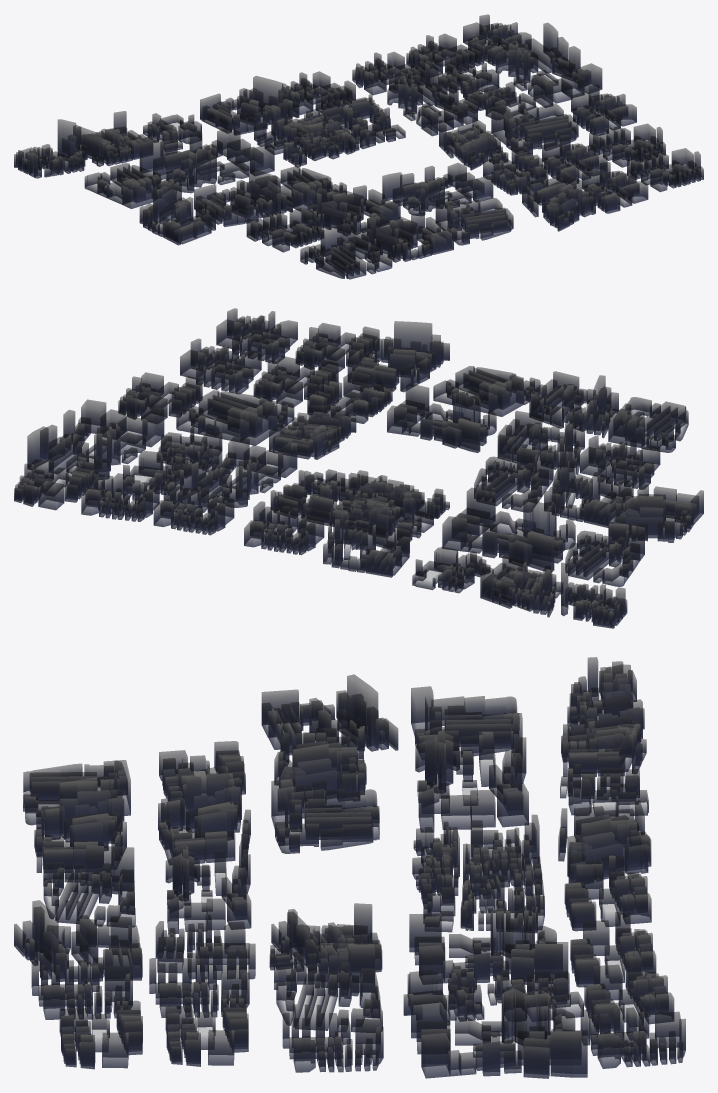
The model's file is 氛围建筑2.glb.
3 renders of one model, top to bottom at view 1: azimuth 30°, elevation 25°; view 2: azimuth 150°, elevation 25°; view 3: azimuth 270°, elevation 25°, orthographic. The views are drawn at different scales.
Visible parts, largest first — view 1: 氛围建筑_003.001, 氛围建筑_002, 氛围建筑_002.003, 氛围建筑_002.002, 氛围建筑_002.001, 氛围建筑_005.004, 氛围建筑_005.001, 氛围建筑_005.006, 氛围建筑_006.001, 氛围建筑_005.002, 氛围建筑_005.005, 氛围建筑_006.003 (+21 smaller); view 2: 氛围建筑_003.001, 氛围建筑_002, 氛围建筑_002.003, 氛围建筑_002.002, 氛围建筑_005.007, 氛围建筑_002.001, 氛围建筑_006.001, 氛围建筑_005.005, 氛围建筑_005.006, 氛围建筑_005.004, 氛围建筑_005.001, 氛围建筑_006.002 (+21 smaller); view 3: 氛围建筑_003.001, 氛围建筑_002.003, 氛围建筑_002, 氛围建筑_002.002, 氛围建筑_006.001, 氛围建筑_005.006, 氛围建筑_005.007, 氛围建筑_005.002, 氛围建筑_005.005, 氛围建筑_006, 氛围建筑_006.004, 氛围建筑_002.001 (+21 smaller).
Boxes of the visible parts, x1,y1,x2,y2 form: 氛围建筑_003.001: [254, 94, 405, 167]; 氛围建筑_002: [139, 127, 274, 193]; 氛围建筑_002.003: [495, 23, 602, 107]; 氛围建筑_002.002: [387, 61, 477, 136]; 氛围建筑_002.001: [382, 163, 493, 215]; 氛围建筑_005.004: [200, 76, 299, 135]; 氛围建筑_005.001: [194, 168, 292, 226]; 氛围建筑_005.006: [355, 213, 453, 262]; 氛围建筑_006.001: [491, 103, 578, 155]; 氛围建筑_005.002: [301, 185, 400, 235]; 氛围建筑_005.005: [139, 177, 215, 245]; 氛围建筑_006.003: [300, 223, 392, 279]; 氛围建筑_003.001: [270, 469, 449, 541]; 氛围建筑_002: [442, 488, 575, 572]; 氛围建筑_002.003: [27, 399, 164, 479]; 氛围建筑_002.002: [180, 437, 297, 507]; 氛围建筑_005.007: [347, 321, 449, 392]; 氛围建筑_002.001: [387, 383, 496, 452]; 氛围建筑_006.001: [176, 390, 294, 445]; 氛围建筑_005.005: [609, 484, 703, 542]; 氛围建筑_005.006: [529, 371, 618, 438]; 氛围建筑_005.004: [323, 505, 409, 577]; 氛围建筑_005.001: [544, 453, 633, 527]; 氛围建筑_006.002: [565, 522, 644, 586]; 氛围建筑_003.001: [412, 815, 544, 933]; 氛围建筑_002.003: [411, 988, 587, 1078]; 氛围建筑_002: [415, 713, 528, 832]; 氛围建筑_002.002: [409, 907, 568, 984]; 氛围建筑_006.001: [274, 943, 382, 1032]; 氛围建筑_005.006: [34, 776, 126, 872]; 氛围建筑_005.007: [14, 900, 142, 981]; 氛围建筑_005.002: [158, 765, 250, 865]; 氛围建筑_005.005: [261, 674, 398, 755]; 氛围建筑_006: [271, 779, 379, 853]; 氛围建筑_006.004: [43, 845, 135, 927]; 氛围建筑_002.001: [165, 834, 251, 933].
Bounding box in the file's own units: 473 × 32.65 × 355.
2 materials, 2 textured.
